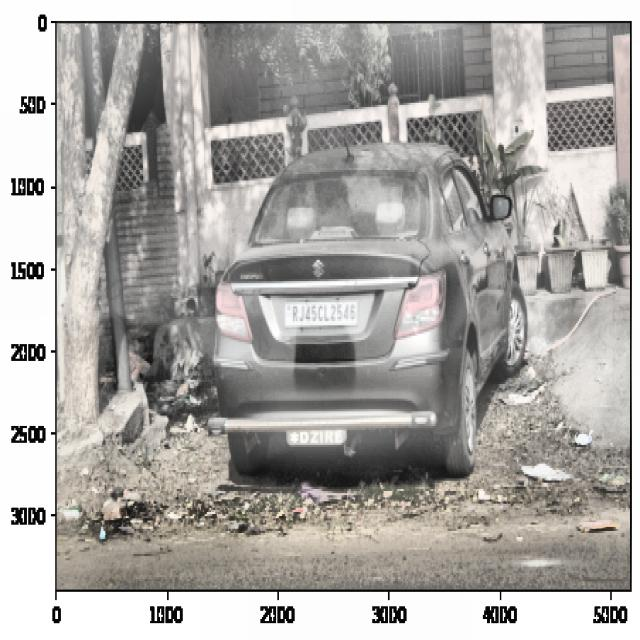license_plate: (284, 300, 360, 328)
